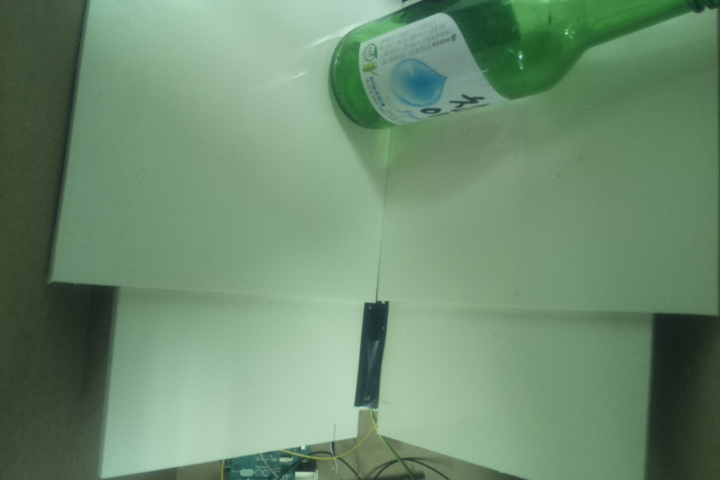soju: (324, 1, 720, 134)
